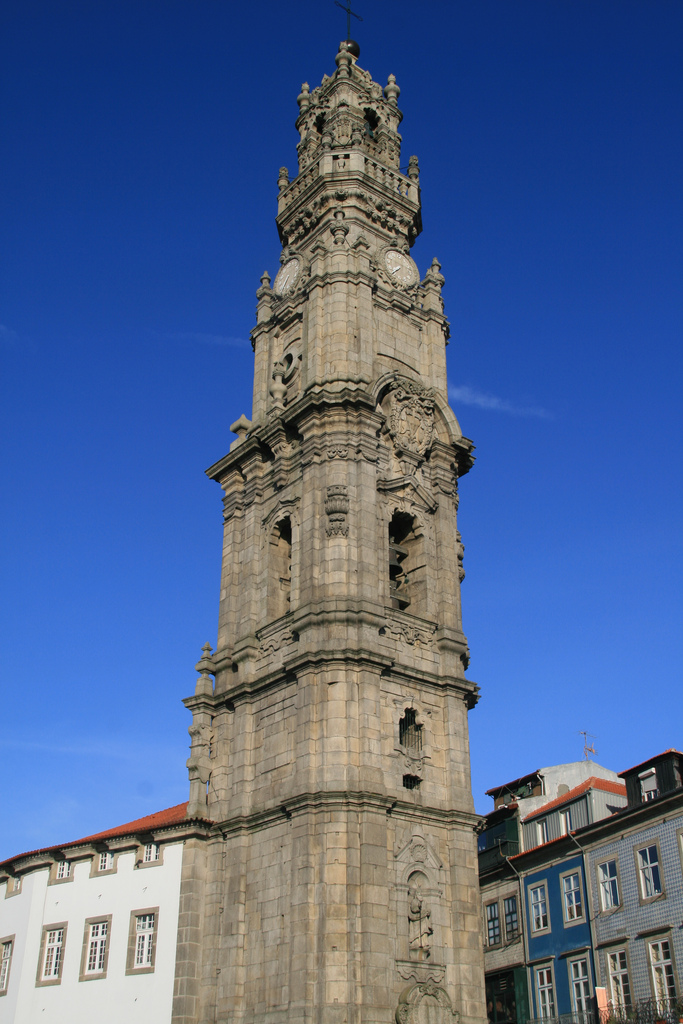clerigos: (168, 0, 490, 1023)
